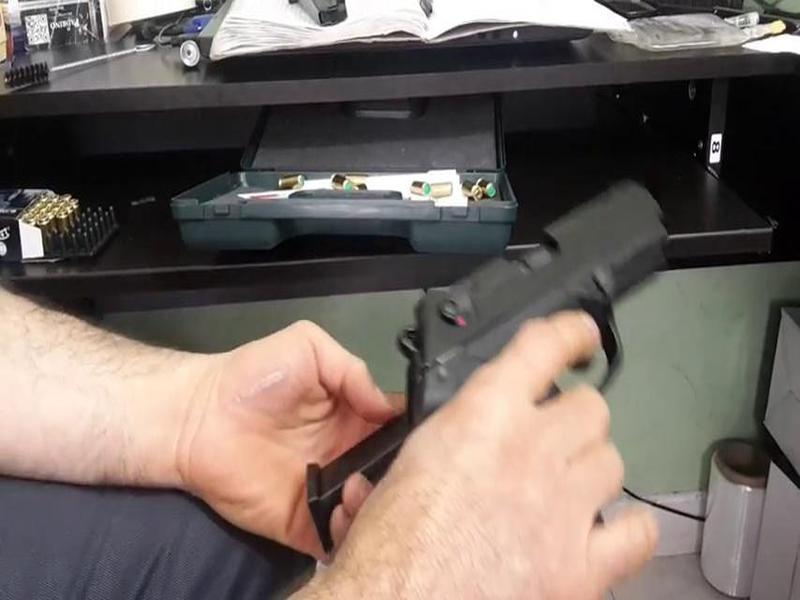Pistola: (328, 164, 676, 492)
